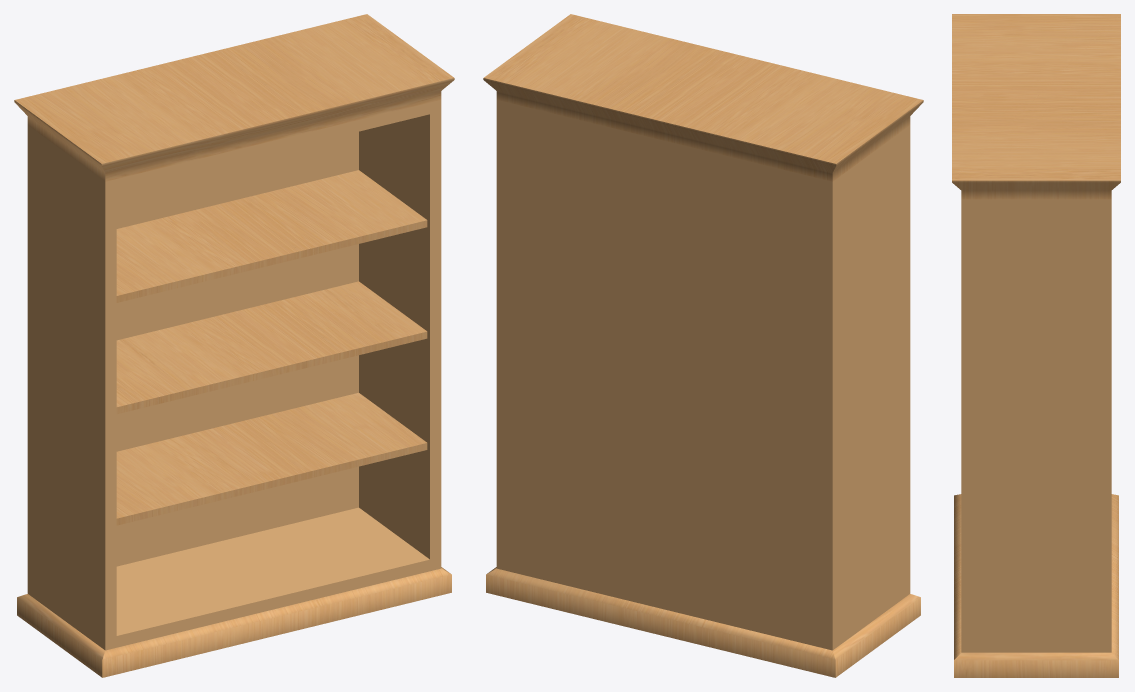
The model's file is testGeo.fbx.
3 views of the same model, side by side, from view 1: azimuth 30°, elevation 25°; view 2: azimuth 150°, elevation 25°; view 3: azimuth 270°, elevation 25° (orthographic). The views are drawn at different scales.
Parts seen in each view (by area): view 1: cabinet_gen; view 2: cabinet_gen; view 3: cabinet_gen.
Part boxes in pixels (left/top/right/bottom): cabinet_gen: left=14, top=14, right=454, bottom=677; cabinet_gen: left=483, top=14, right=923, bottom=677; cabinet_gen: left=952, top=14, right=1120, bottom=677.
Bounding box in the file's own units: 1.58 × 2.2 × 0.6751.
1 material, 1 textured.
